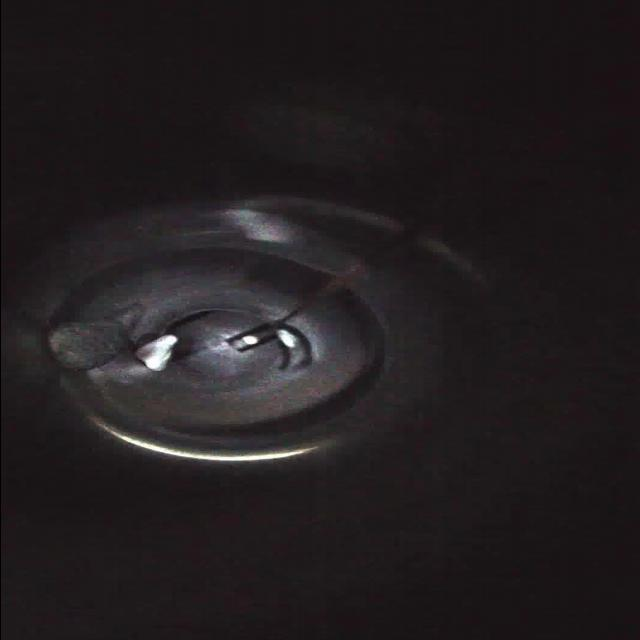impurity: (40, 316, 130, 370), (130, 332, 180, 372)
